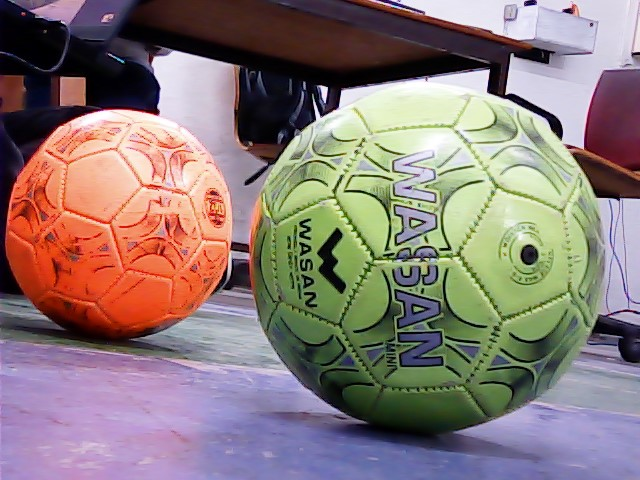Green_ball: (241, 76, 607, 444)
Orange_ball: (8, 101, 249, 347)
